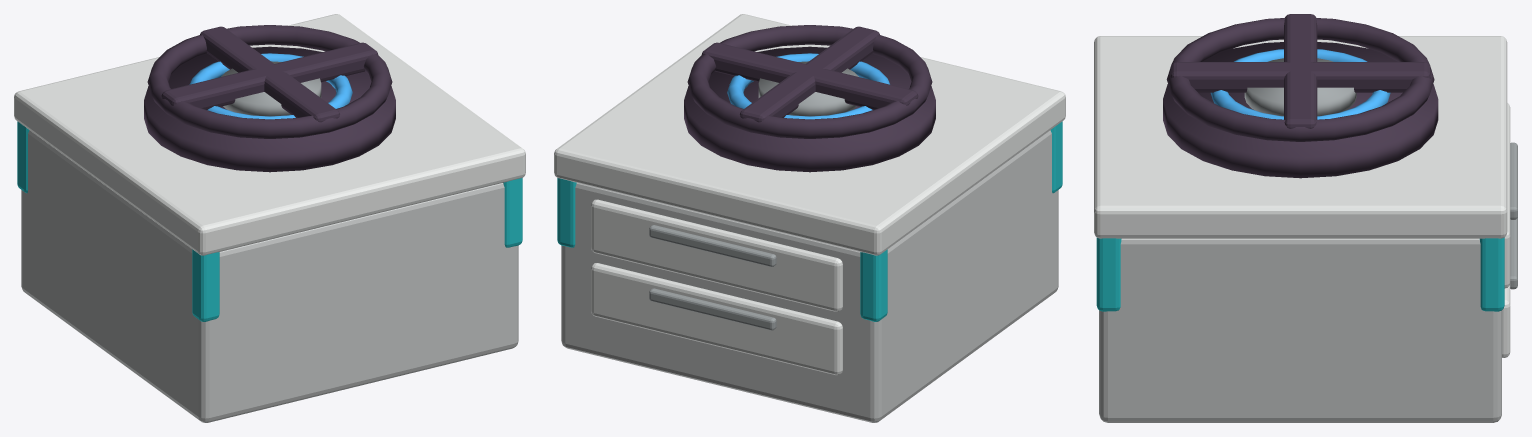
File: PotHeatSource.fbx
The picture shows the model from 3 angles, left to right: view 1: azimuth 30°, elevation 25°; view 2: azimuth 150°, elevation 25°; view 3: azimuth 270°, elevation 25°; orthographic projection. The views are drawn at different scales.
Visible parts, largest first — view 1: PotHeatSource Combined Geometry; view 2: PotHeatSource Combined Geometry; view 3: PotHeatSource Combined Geometry.
Boxes of the visible parts, <box> form: PotHeatSource Combined Geometry: <box>14,14,525,422</box>; PotHeatSource Combined Geometry: <box>554,14,1065,422</box>; PotHeatSource Combined Geometry: <box>1094,14,1517,422</box>.
Bounding box in the file's own units: 162 × 119 × 166.
